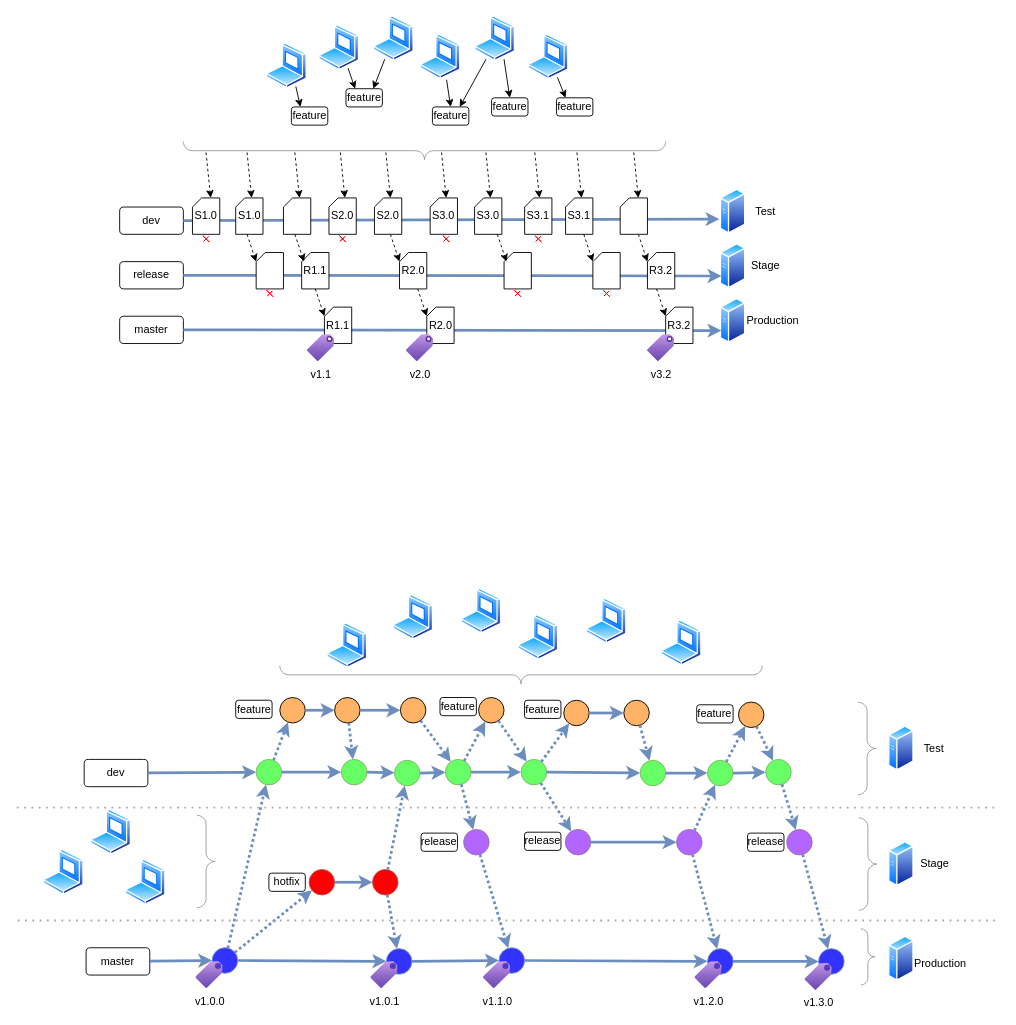
This 1016x1025 diagram has some shape labels left out. Here are the shapes that lost their labels. From the top down, the box of each, then its label:
(283, 197, 311, 234): S1.1
(619, 197, 647, 234): S3.2
(255, 252, 283, 289): R1.0
(503, 252, 531, 289): R3.0
(592, 252, 620, 289): R3.1
